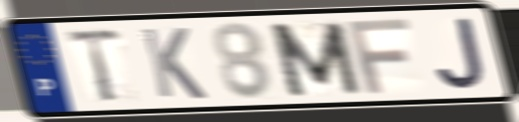8: (210, 19, 276, 104)
F: (343, 16, 413, 96)
J: (434, 15, 489, 92)
K: (137, 25, 210, 102)
M: (265, 19, 366, 99)
T: (64, 26, 125, 106)
